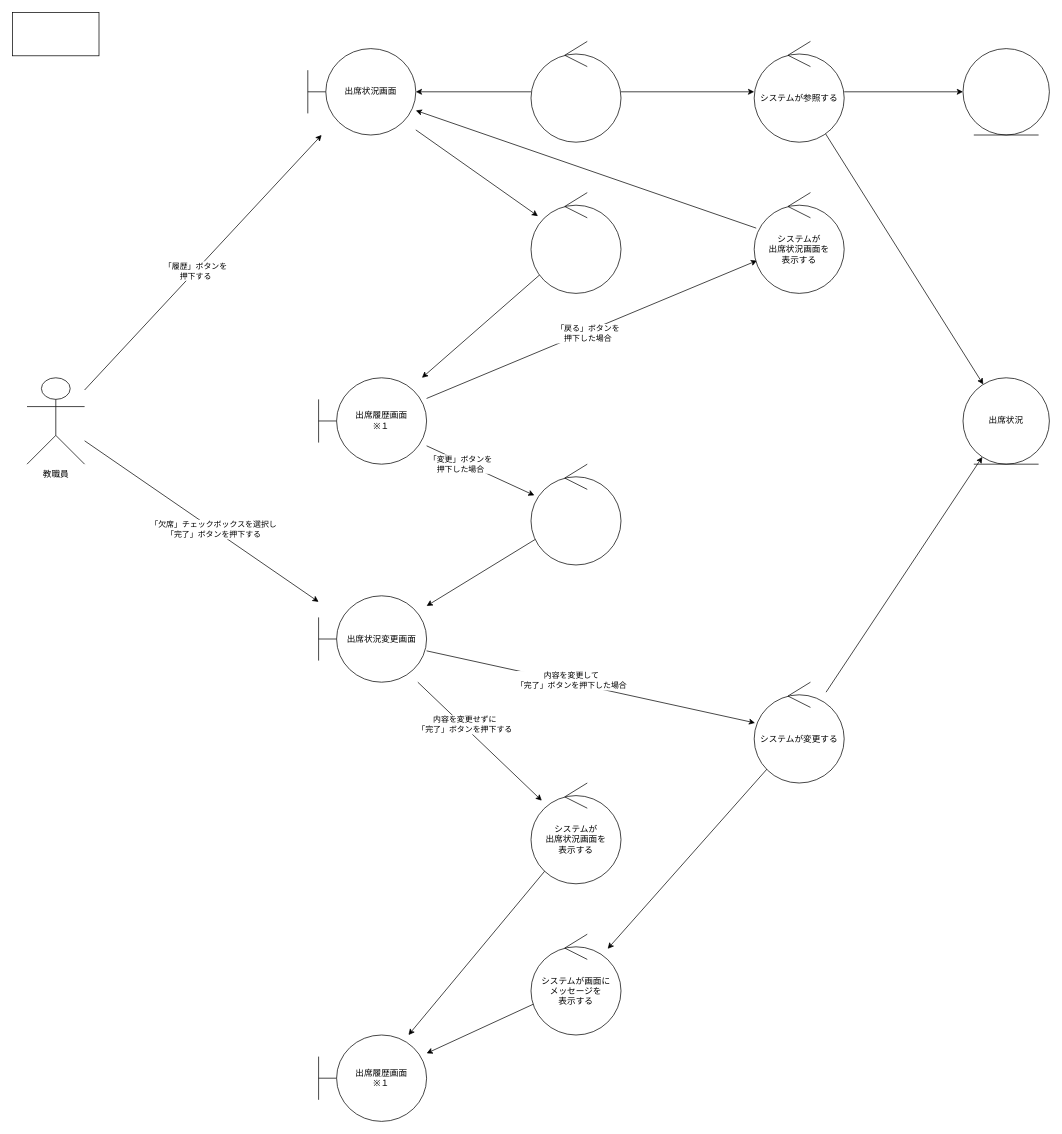
The diagram is 1062 pixels wide and 1134 high, and some of its shapes have lost their labels. Each missing label, with the centre of its shape:
※１は同一画面: point (55, 34)
システムが チェックボックスを 表示する: point (575, 514)
システムが 出席履歴画面を 表示する: point (575, 242)
システムが画面を 表示する: point (575, 91)
学生情報: point (1005, 91)
